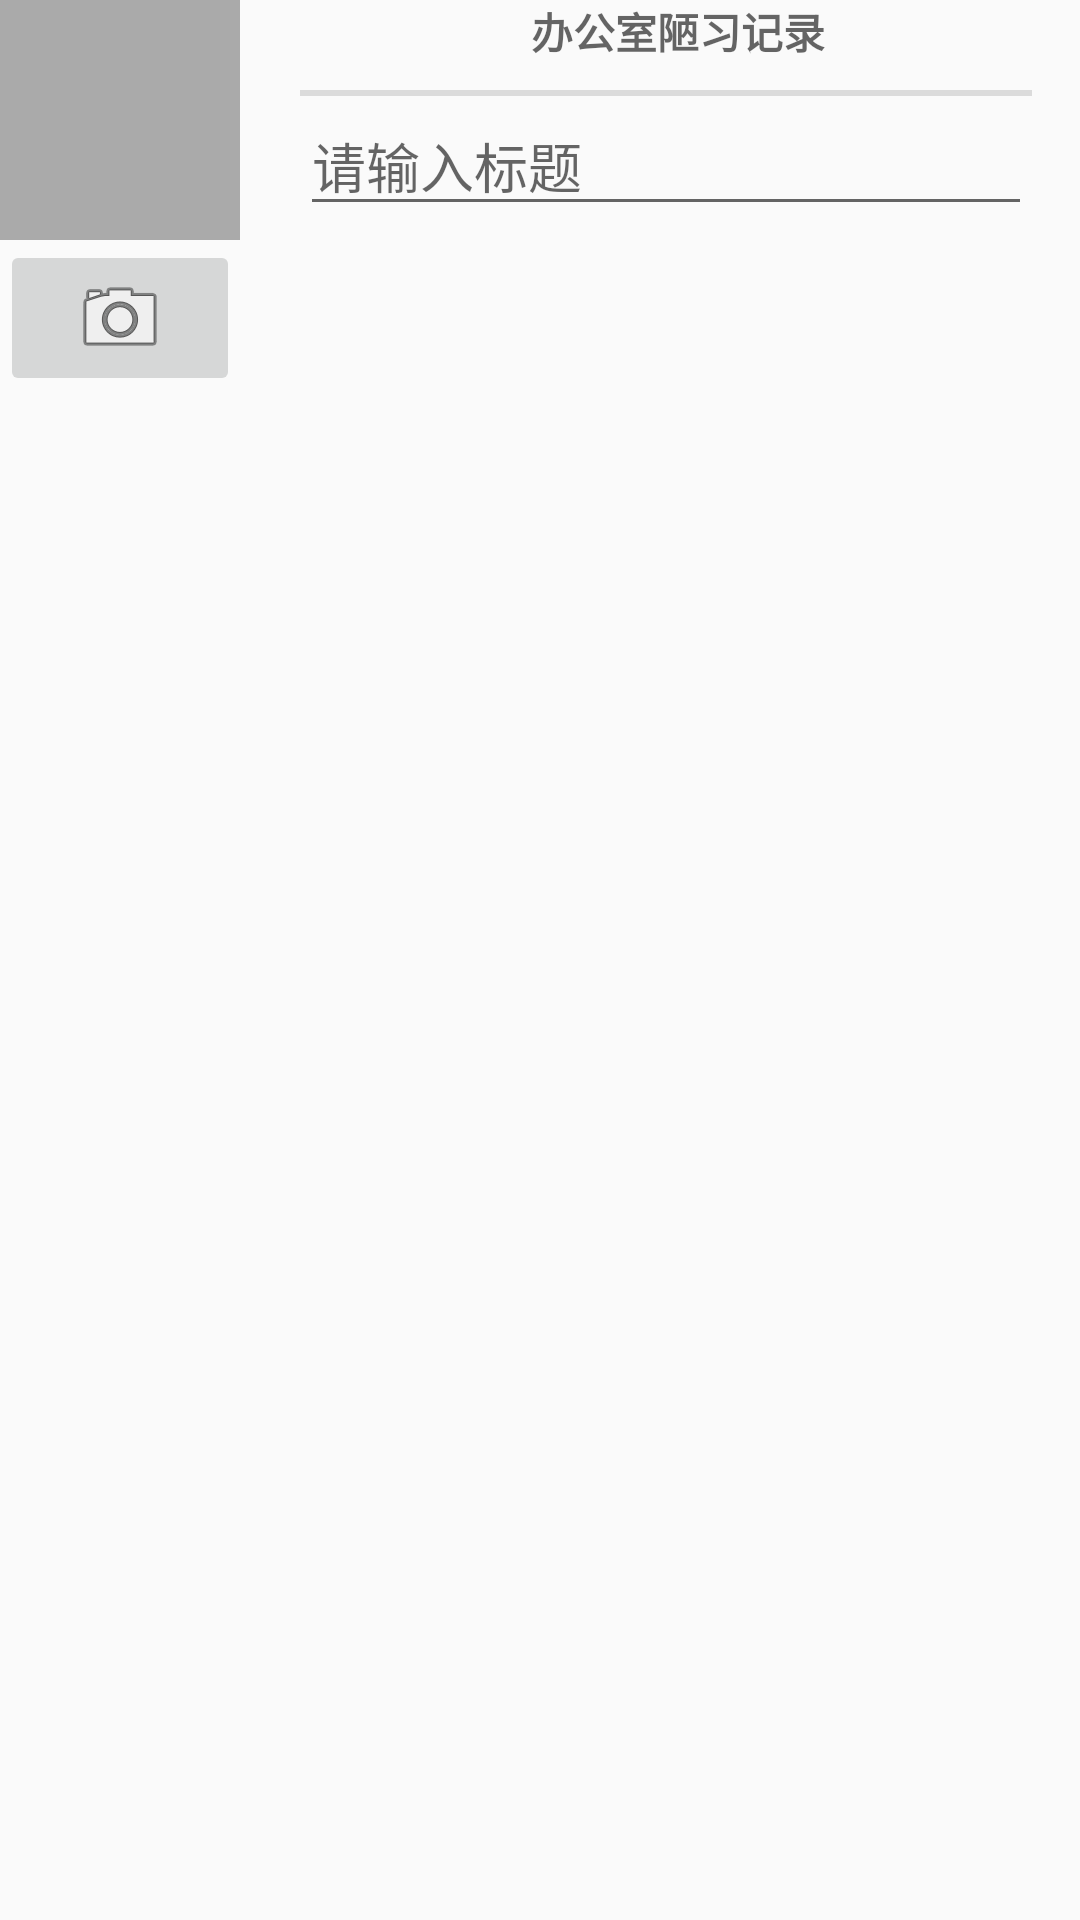

Named icons in this screenshot (1080x1920) and their centers, (x,y):
camera: (120,318)
